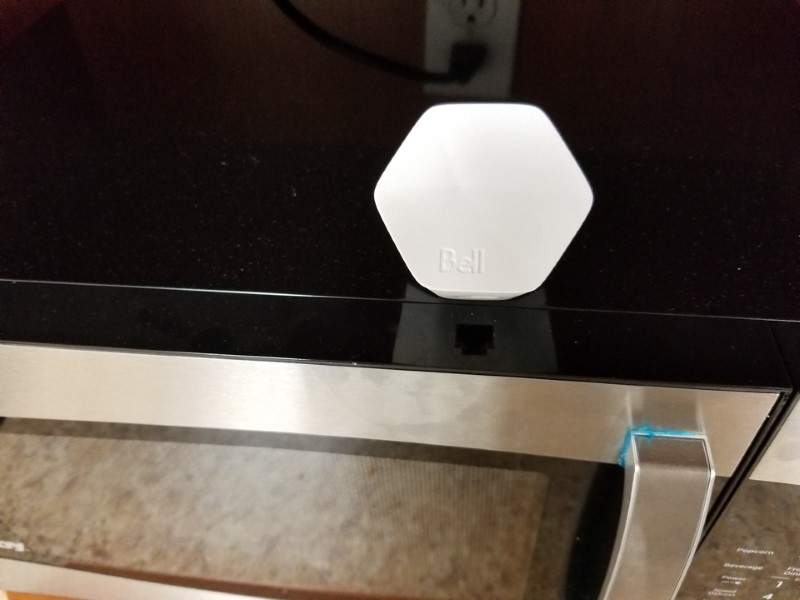pod: (368, 94, 606, 309)
